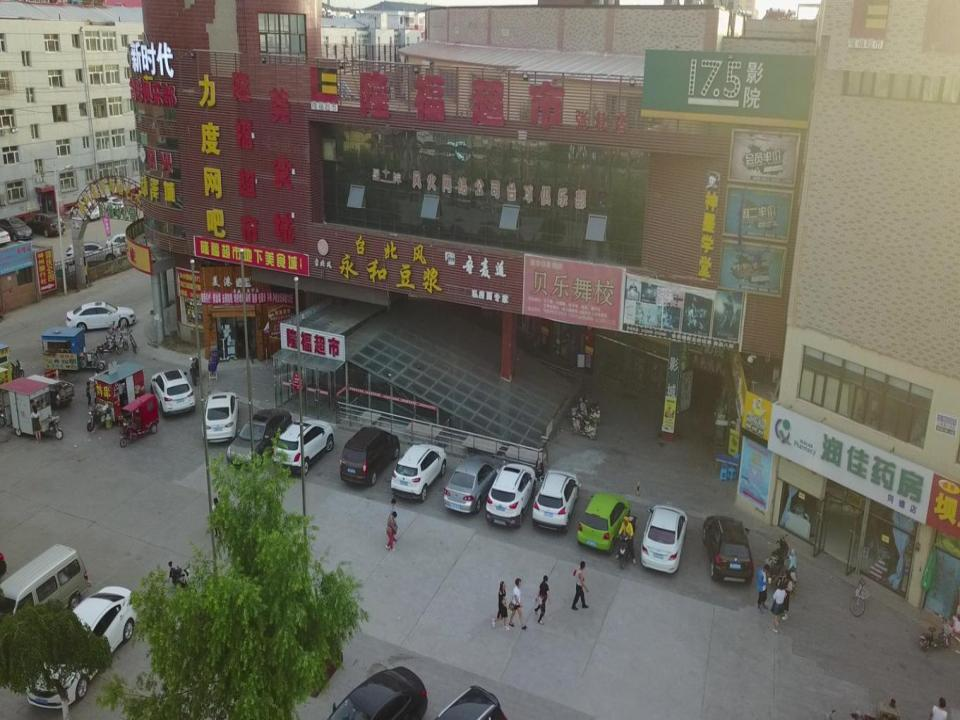car: (25, 584, 138, 708), (324, 664, 426, 720), (227, 408, 290, 468), (701, 511, 754, 582), (338, 425, 399, 485), (272, 418, 333, 475), (638, 503, 687, 572), (389, 442, 445, 502), (483, 462, 534, 525), (578, 491, 630, 550), (532, 468, 580, 529), (445, 456, 497, 511), (434, 683, 508, 720), (148, 368, 196, 412), (64, 302, 137, 330), (201, 389, 237, 443), (167, 558, 194, 594), (28, 213, 67, 236), (65, 243, 109, 263), (1, 215, 33, 238), (106, 234, 145, 252), (68, 202, 99, 220), (91, 195, 124, 211)
van: (0, 542, 90, 618)
